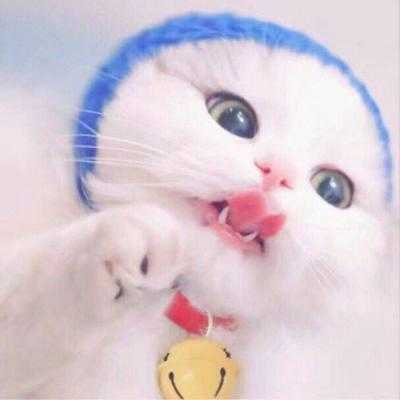cat: (97, 33, 388, 304)
